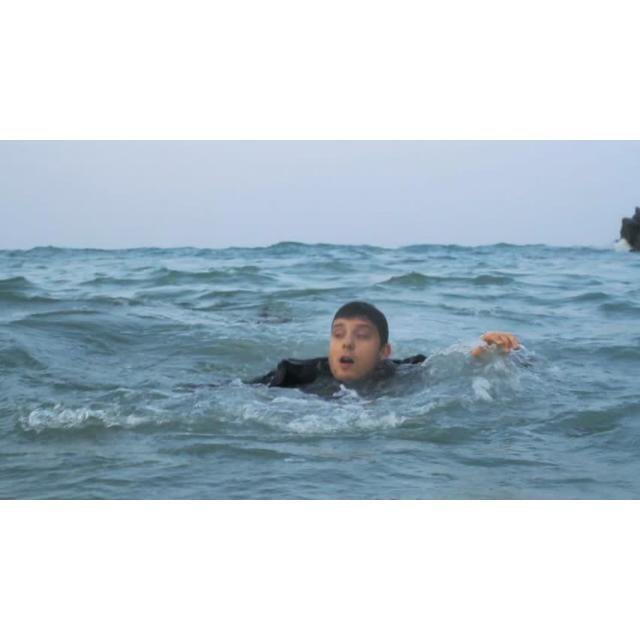human: (250, 299, 522, 400)
